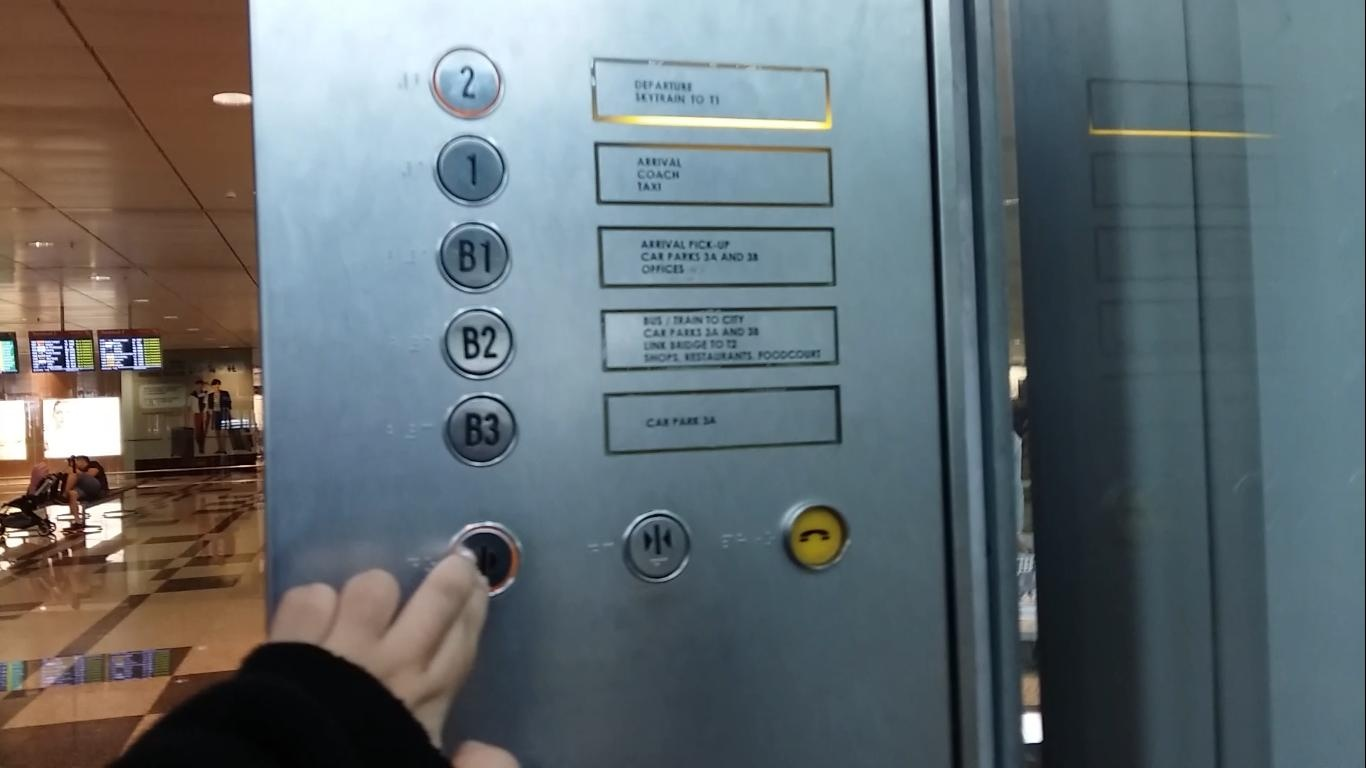1: (432, 132, 509, 208)
2: (427, 43, 506, 121)
B1: (434, 218, 514, 295)
B2: (440, 302, 515, 380)
B3: (441, 392, 520, 469)
alarm: (779, 500, 850, 574)
close: (621, 508, 696, 585)
